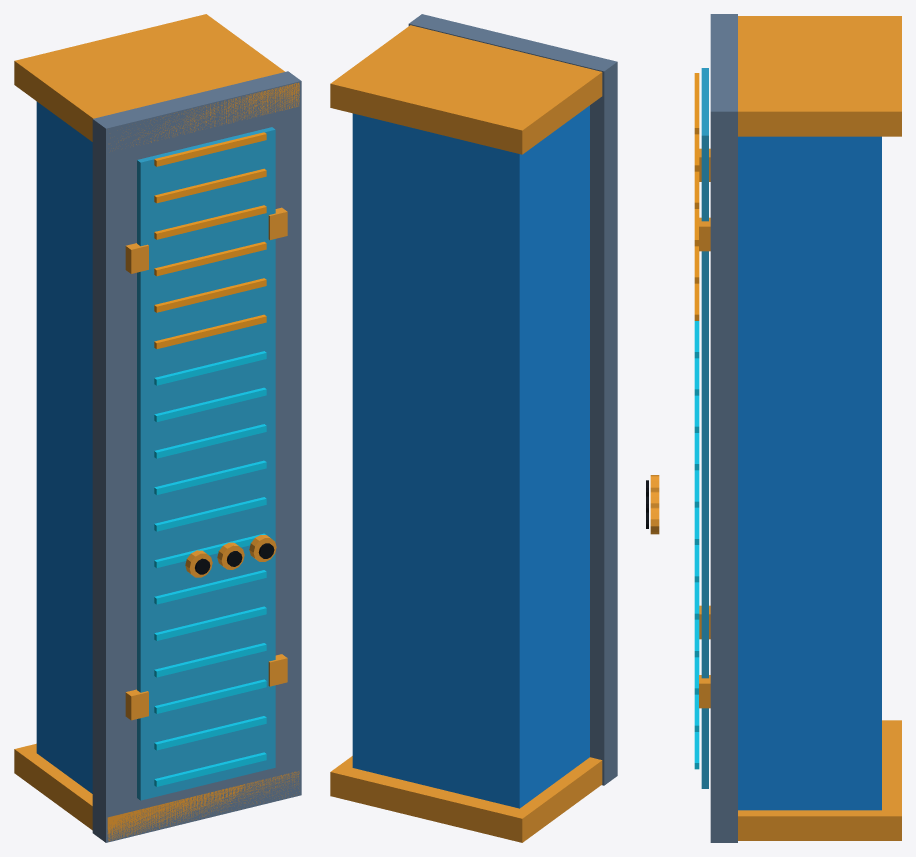
File: 40_L89_WaterWallTankPortB.fbx
The picture shows the model from 3 angles, left to right: view 1: azimuth 30°, elevation 25°; view 2: azimuth 150°, elevation 25°; view 3: azimuth 270°, elevation 25°; orthographic projection. The views are drawn at different scales.
Parts seen in each view (by area): view 1: L87_WaterWallTankPortB_Part_0002, L87_WaterWallTankPortB_Part_0001, L87_WaterWallTankPortB_Part_0000, L87_WaterWallTankPortB_Part_0005, L87_WaterWallTankPortB_Part_0003, L87_WaterWallTankPortB_Part_0004; view 2: L87_WaterWallTankPortB_Part_0000, L87_WaterWallTankPortB_Part_0005, L87_WaterWallTankPortB_Part_0001; view 3: L87_WaterWallTankPortB_Part_0000, L87_WaterWallTankPortB_Part_0005, L87_WaterWallTankPortB_Part_0001, L87_WaterWallTankPortB_Part_0002, L87_WaterWallTankPortB_Part_0003, L87_WaterWallTankPortB_Part_0004.
Part boxes in pixels (left/top/right/bottom): L87_WaterWallTankPortB_Part_0002: left=137, top=127, right=275, bottom=800; L87_WaterWallTankPortB_Part_0001: left=92, top=71, right=301, bottom=842; L87_WaterWallTankPortB_Part_0000: left=36, top=101, right=92, bottom=793; L87_WaterWallTankPortB_Part_0005: left=14, top=14, right=299, bottom=841; L87_WaterWallTankPortB_Part_0003: left=154, top=351, right=266, bottom=786; L87_WaterWallTankPortB_Part_0004: left=154, top=132, right=266, bottom=349; L87_WaterWallTankPortB_Part_0000: left=352, top=105, right=589, bottom=808; L87_WaterWallTankPortB_Part_0005: left=330, top=25, right=602, bottom=842; L87_WaterWallTankPortB_Part_0001: left=408, top=14, right=617, bottom=785; L87_WaterWallTankPortB_Part_0000: left=738, top=136, right=881, bottom=810; L87_WaterWallTankPortB_Part_0005: left=699, top=16, right=901, bottom=840; L87_WaterWallTankPortB_Part_0001: left=710, top=14, right=737, bottom=842; L87_WaterWallTankPortB_Part_0002: left=701, top=68, right=708, bottom=788; L87_WaterWallTankPortB_Part_0003: left=694, top=321, right=699, bottom=769; L87_WaterWallTankPortB_Part_0004: left=694, top=73, right=699, bottom=320.
Bounding box in the file's own units: 110 × 384 × 122.
